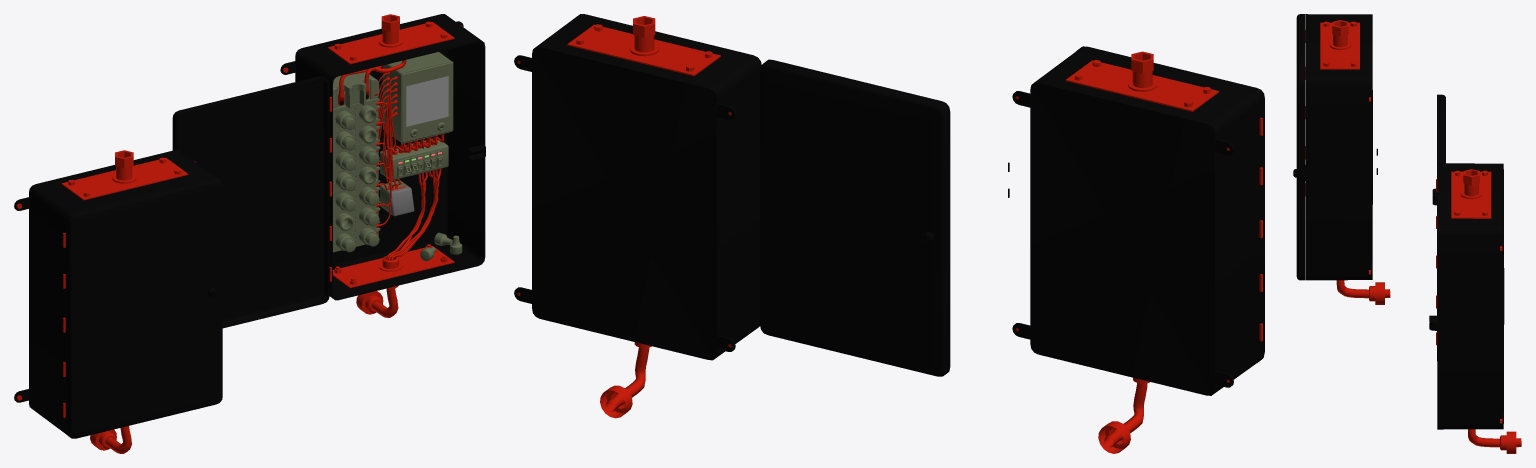
3 renders of one model, left to right at view 1: azimuth 30°, elevation 25°; view 2: azimuth 150°, elevation 25°; view 3: azimuth 270°, elevation 25°, orthographic. The views are drawn at different scales.
Visible parts, largest first — view 1: Object289, Object288, Box081, Box101, Box082, bPartsLO001, Box102, Plane001, aPartsLO001, Shape005, Box084, Line036 (+3 smaller); view 2: Box101, Box081, Object288, Box102, Box082, Object289, Cylinder251, Cylinder199, Line037, Line044; view 3: Box081, Box101, Object289, Box082, Box102, Object288, Line037, Line044, Object230, Object268, Object242, Object204 (+2 smaller).
Part boxes in pixels (x1,y1,x2,y2): Object289: (65, 176, 222, 438); Object288: (172, 76, 329, 328); Box081: (295, 14, 485, 300); Box101: (29, 150, 214, 433); Box082: (328, 22, 454, 288); bPartsLO001: (383, 52, 453, 143); Box102: (61, 158, 188, 200); Plane001: (406, 76, 448, 126); aPartsLO001: (333, 72, 379, 108); Shape005: (381, 77, 395, 225); Box084: (380, 139, 448, 180); Line036: (387, 169, 441, 260); Box101: (1030, 49, 1260, 395); Box081: (532, 14, 761, 360); Object288: (760, 59, 950, 376); Box102: (1065, 60, 1218, 111); Box082: (567, 24, 720, 76); Object289: (1077, 46, 1264, 362); Cylinder251: (1012, 91, 1233, 387); Cylinder199: (514, 55, 735, 351); Line037: (605, 347, 649, 411); Line044: (1103, 383, 1147, 447); Box081: (1437, 163, 1504, 429); Box101: (1306, 14, 1372, 280); Object289: (1293, 14, 1305, 280); Box082: (1451, 171, 1491, 218); Box102: (1320, 22, 1359, 69); Object288: (1432, 94, 1445, 360); Line037: (1468, 429, 1521, 447); Line044: (1336, 280, 1390, 298); Object230: (1500, 431, 1516, 453); Object268: (1369, 282, 1384, 304); Object242: (1329, 34, 1351, 49); Object204: (1460, 183, 1482, 199).
Size of the model in its own units: 3088 by 1753 by 1299.
